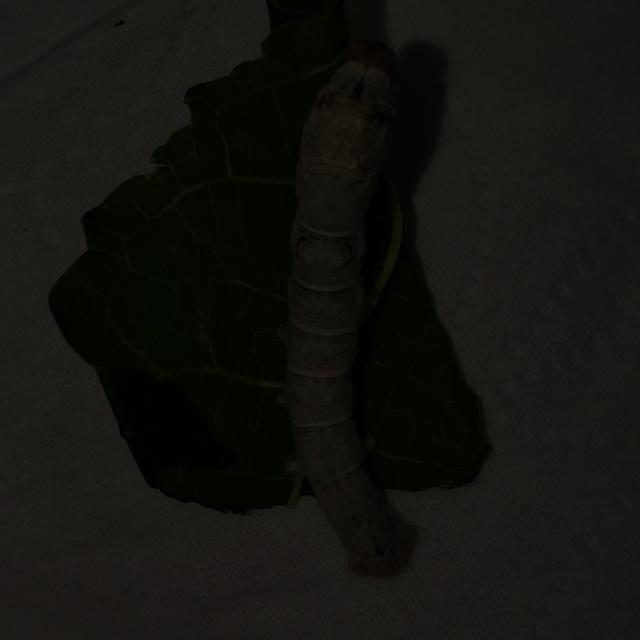Healthy: (266, 32, 438, 580)
